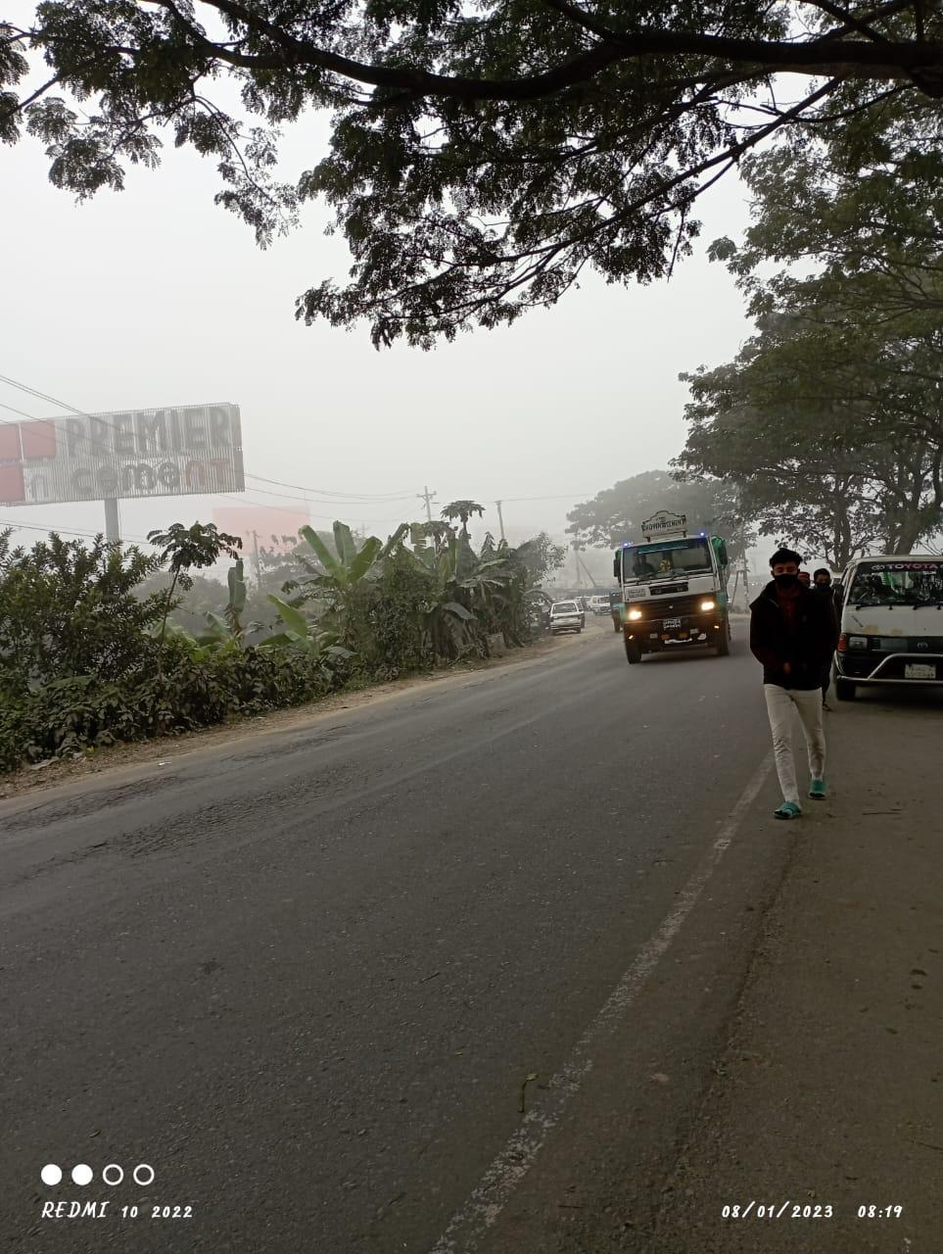Car: (828, 530, 943, 712), (544, 593, 589, 632)
Truck: (604, 506, 737, 667)
